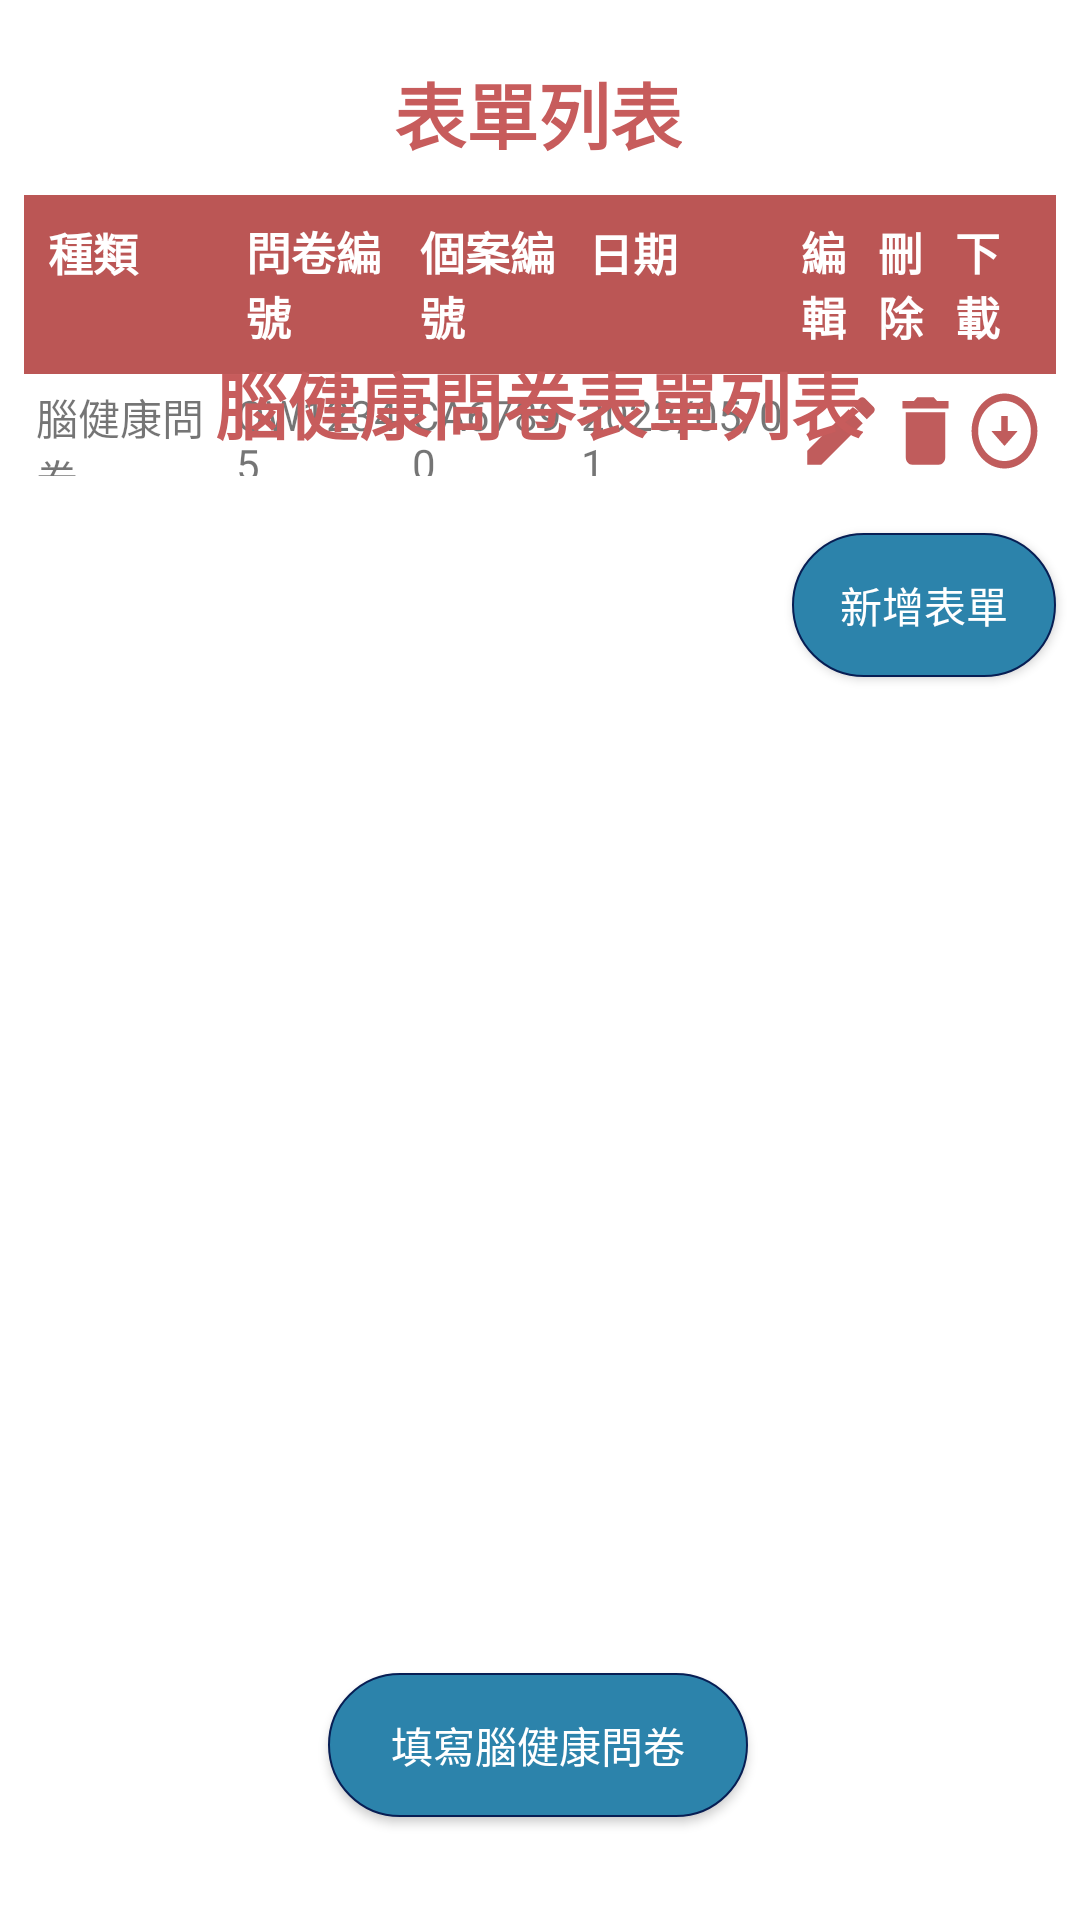

Icon bounding boxes for this 1080*1920 phone screenshot, format (x1, y1, x2, y2):
arrow circle down: (971, 393, 1038, 469)
delete: (902, 397, 949, 465)
